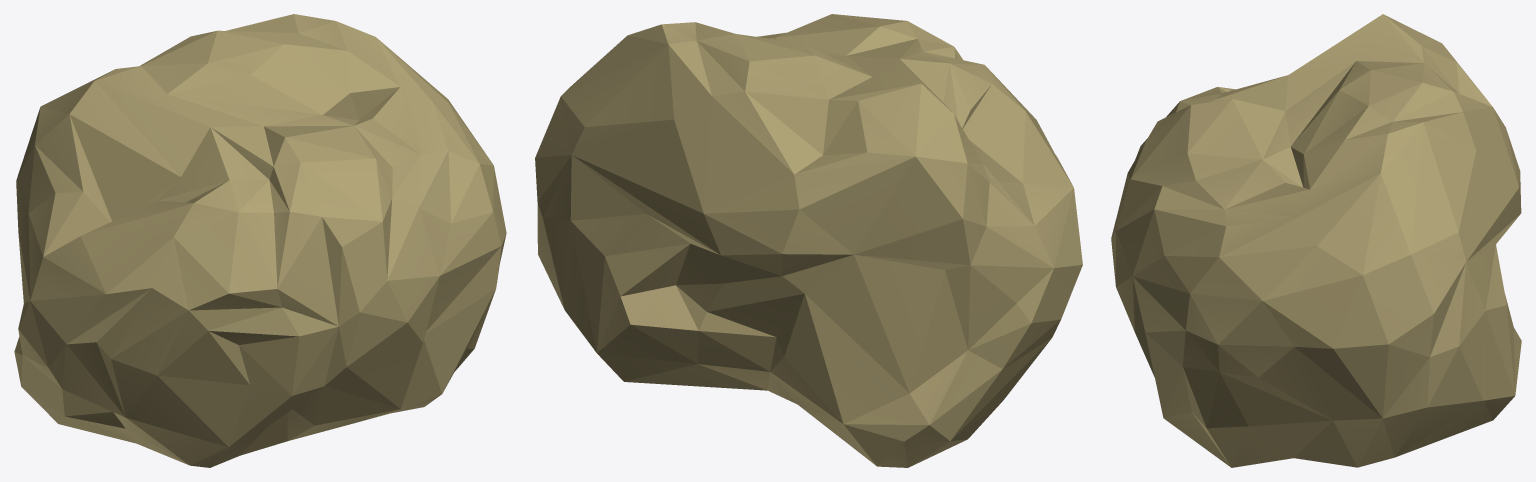
Rendered from SM_rock_21.fbx.
3 views of the same model, side by side, from view 1: azimuth 30°, elevation 25°; view 2: azimuth 150°, elevation 25°; view 3: azimuth 270°, elevation 25° (orthographic). The views are drawn at different scales.
Parts seen in each view (by area): view 1: rock_21; view 2: rock_21; view 3: rock_21.
Boxes of the visible parts, x1=… form: rock_21: x1=14, y1=14, x2=506, y2=467; rock_21: x1=535, y1=14, x2=1082, y2=467; rock_21: x1=1111, y1=14, x2=1521, y2=467.
Bounding box in the file's own units: 269 × 197 × 212.
